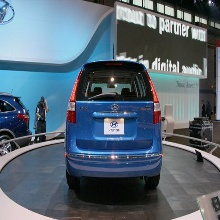no damage: (64, 60, 164, 193), (1, 93, 29, 154)
